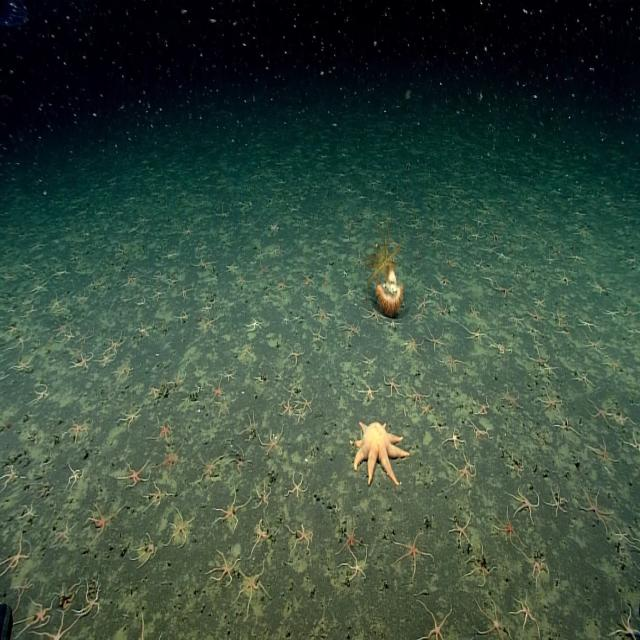brittle-stars: (393, 531, 428, 573), (579, 484, 611, 529), (416, 601, 452, 640), (475, 598, 506, 640), (216, 491, 247, 529), (237, 565, 266, 605), (1, 534, 30, 574), (512, 594, 540, 634), (494, 508, 520, 548), (512, 486, 540, 522), (210, 550, 237, 586), (22, 594, 50, 627), (470, 546, 494, 584), (41, 615, 77, 640), (169, 509, 193, 546), (89, 504, 115, 538), (122, 459, 150, 489), (615, 607, 640, 640), (160, 444, 186, 474), (342, 551, 368, 581), (82, 581, 103, 618), (448, 463, 476, 489), (135, 533, 156, 566), (451, 516, 472, 548), (290, 524, 314, 552), (200, 454, 222, 484), (125, 618, 155, 640), (590, 440, 614, 466), (548, 485, 568, 516), (251, 520, 271, 551), (356, 348, 379, 374), (588, 399, 610, 425), (527, 555, 548, 582), (170, 309, 194, 332), (340, 526, 361, 552), (263, 431, 283, 458), (146, 482, 166, 509), (120, 407, 142, 431), (154, 418, 175, 443), (538, 387, 560, 410), (288, 473, 308, 498), (440, 350, 463, 371), (55, 521, 75, 545), (408, 384, 429, 406), (555, 414, 576, 436), (242, 415, 259, 442), (59, 584, 76, 611), (384, 375, 403, 399), (528, 347, 549, 368), (427, 233, 448, 254), (71, 351, 93, 371), (68, 419, 88, 441), (1, 466, 20, 489), (66, 464, 84, 488), (590, 277, 611, 297), (404, 335, 422, 358), (232, 448, 249, 472), (256, 484, 272, 509), (502, 386, 520, 408), (426, 329, 444, 351), (19, 574, 37, 596), (359, 381, 379, 400), (446, 430, 465, 450), (107, 333, 126, 353), (13, 332, 32, 352), (342, 317, 360, 338), (576, 367, 594, 388), (626, 429, 640, 456), (615, 523, 632, 545), (116, 358, 132, 381), (464, 326, 483, 345), (32, 383, 49, 404), (12, 356, 33, 373), (22, 500, 38, 522), (509, 454, 525, 476), (585, 336, 604, 354), (363, 305, 382, 323), (492, 340, 511, 358), (474, 397, 491, 417), (472, 422, 492, 439), (170, 372, 186, 393), (494, 281, 513, 298), (76, 327, 93, 345), (605, 355, 621, 374), (344, 286, 361, 303), (542, 250, 559, 267), (314, 308, 332, 324), (286, 345, 302, 363), (556, 270, 572, 288), (580, 314, 596, 332), (217, 396, 232, 415), (211, 380, 225, 400), (31, 278, 48, 294), (280, 399, 294, 418), (51, 291, 65, 310), (246, 316, 262, 332), (312, 326, 328, 342), (202, 316, 217, 333), (554, 310, 568, 328), (276, 277, 291, 293), (99, 352, 115, 367), (138, 322, 152, 339), (568, 250, 585, 264), (198, 256, 215, 270), (511, 312, 525, 328), (426, 283, 440, 299), (178, 285, 192, 301), (616, 411, 630, 427), (603, 307, 619, 321), (75, 289, 89, 305), (574, 224, 590, 238), (241, 343, 253, 361), (236, 273, 250, 288), (24, 304, 39, 318), (352, 254, 365, 270), (436, 299, 448, 316), (38, 478, 49, 496), (305, 290, 319, 304), (529, 310, 543, 324), (417, 296, 431, 310), (542, 362, 556, 376), (301, 395, 314, 410), (421, 403, 434, 418), (632, 528, 640, 552), (227, 262, 240, 276), (222, 366, 235, 380), (470, 259, 484, 272), (202, 302, 215, 316), (216, 207, 230, 220), (127, 272, 139, 287), (411, 311, 426, 323), (57, 319, 68, 335), (483, 273, 496, 286), (496, 249, 509, 262), (152, 287, 164, 301), (286, 384, 298, 398), (440, 274, 452, 288), (528, 323, 540, 337), (513, 268, 525, 282), (337, 270, 351, 282), (532, 295, 544, 308), (388, 318, 401, 330), (469, 230, 482, 242), (476, 215, 488, 228), (257, 264, 269, 277), (166, 248, 178, 261), (468, 306, 479, 320), (294, 410, 305, 424), (482, 244, 496, 255), (302, 276, 314, 288), (518, 230, 530, 242), (464, 455, 475, 468), (19, 262, 32, 273), (168, 275, 179, 288), (446, 254, 456, 268), (65, 330, 75, 344), (152, 271, 163, 283), (452, 232, 463, 244), (270, 220, 281, 232), (320, 236, 331, 248), (437, 219, 448, 230), (209, 273, 219, 285), (182, 224, 192, 236), (273, 242, 283, 254), (396, 197, 406, 209), (316, 249, 326, 260), (384, 186, 395, 196), (368, 177, 378, 188), (0, 366, 6, 384), (346, 185, 356, 195), (282, 314, 290, 326)
